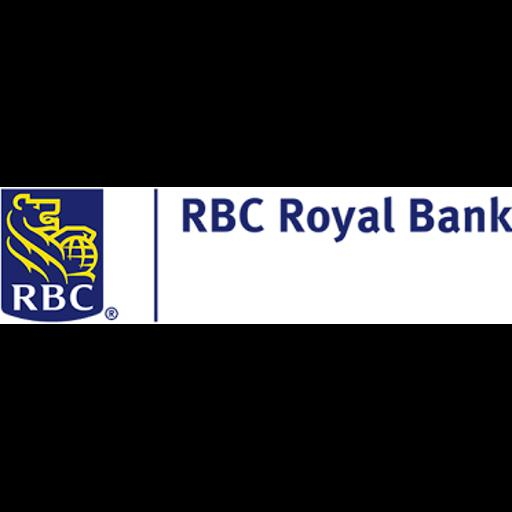RBC Royal Bank: (0, 187, 512, 324)
